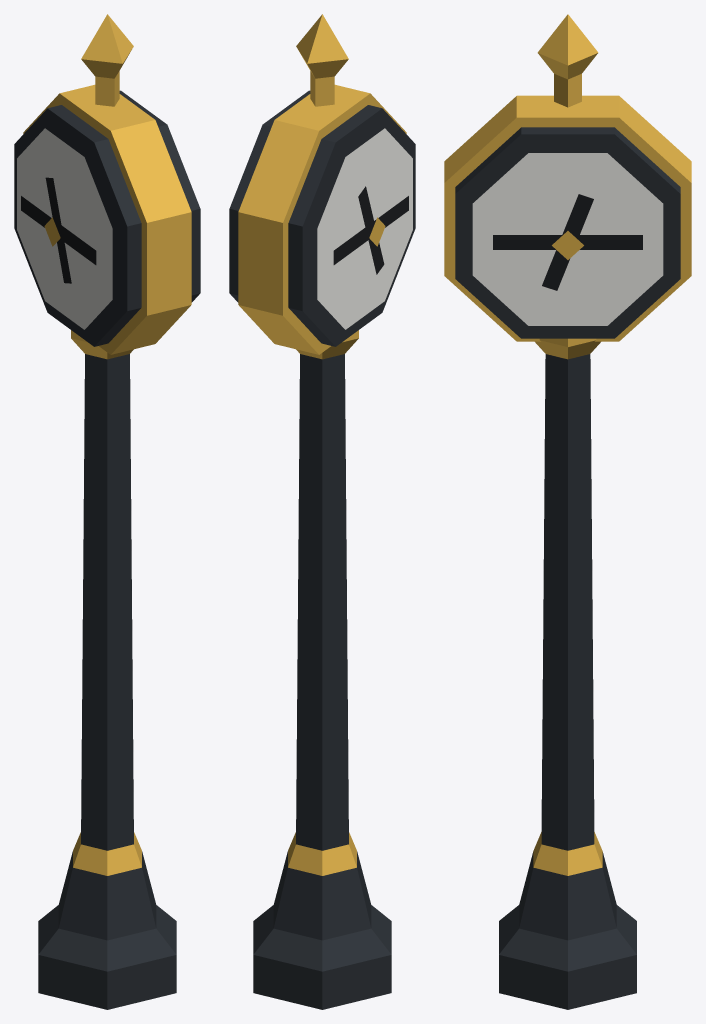
Rendered from street_clock.glb.
3 renders of one model, left to right at view 1: azimuth 30°, elevation 25°; view 2: azimuth 150°, elevation 25°; view 3: azimuth 270°, elevation 25°, orthographic.
Visible parts, largest first — view 1: street_clock; view 2: street_clock; view 3: street_clock.
Part boxes in pixels (bbox=[...]): street_clock: bbox=[14, 14, 200, 1009]; street_clock: bbox=[229, 14, 415, 1009]; street_clock: bbox=[444, 14, 691, 1009].
Bounding box in the file's own units: 0.068 × 0.4522 × 0.1053.
